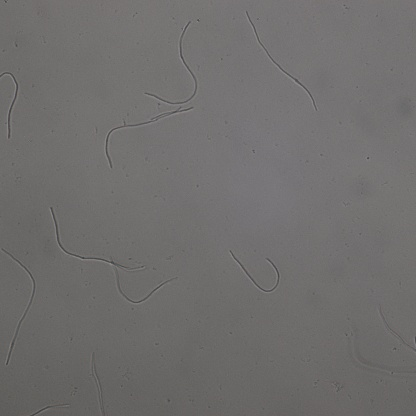Sensitive: (246, 12, 317, 110), (50, 207, 144, 270), (102, 106, 192, 168), (146, 20, 199, 106), (2, 248, 36, 365), (112, 258, 178, 302), (230, 250, 281, 292), (1, 71, 19, 138), (26, 403, 66, 416)
